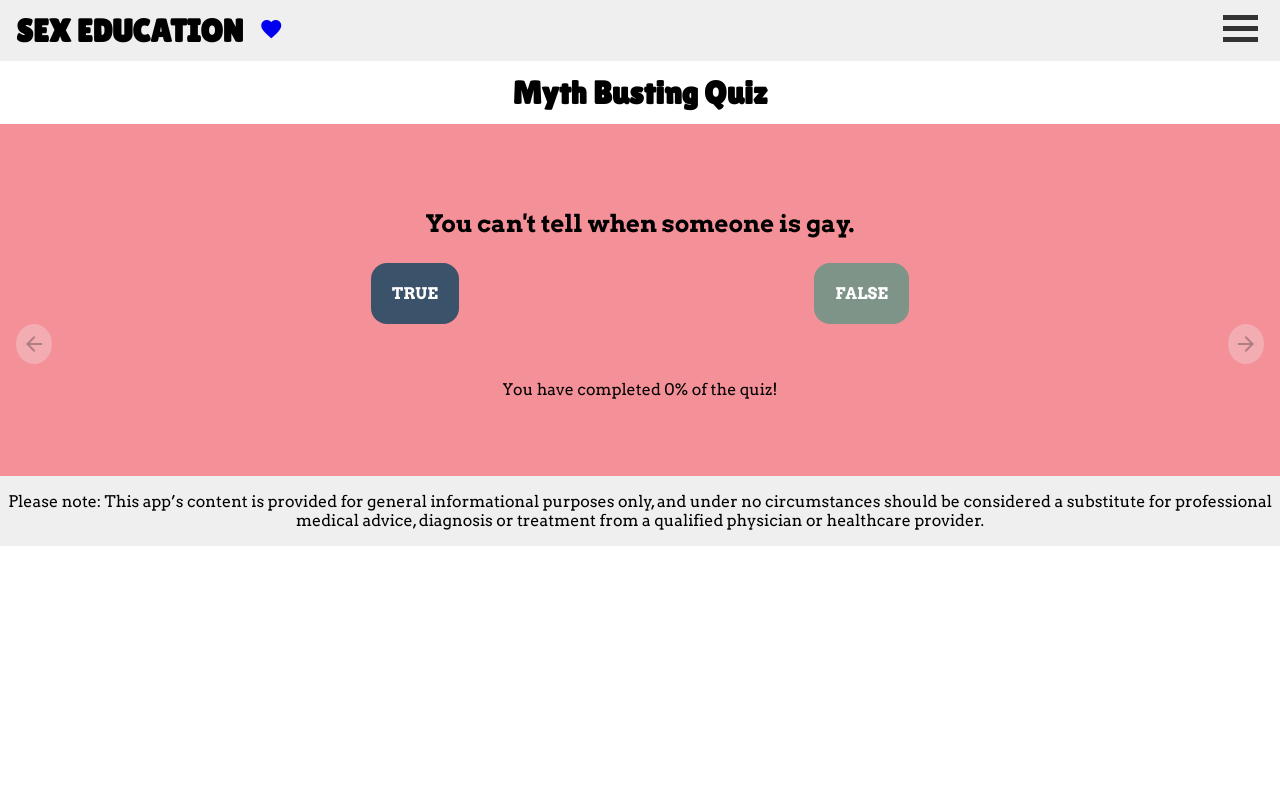
Test: Quiz › Should show the next question once the next arrow button is clicked
Click the radio button with class "true-label": {"x": 415, "y": 294} [371,263,459,324]
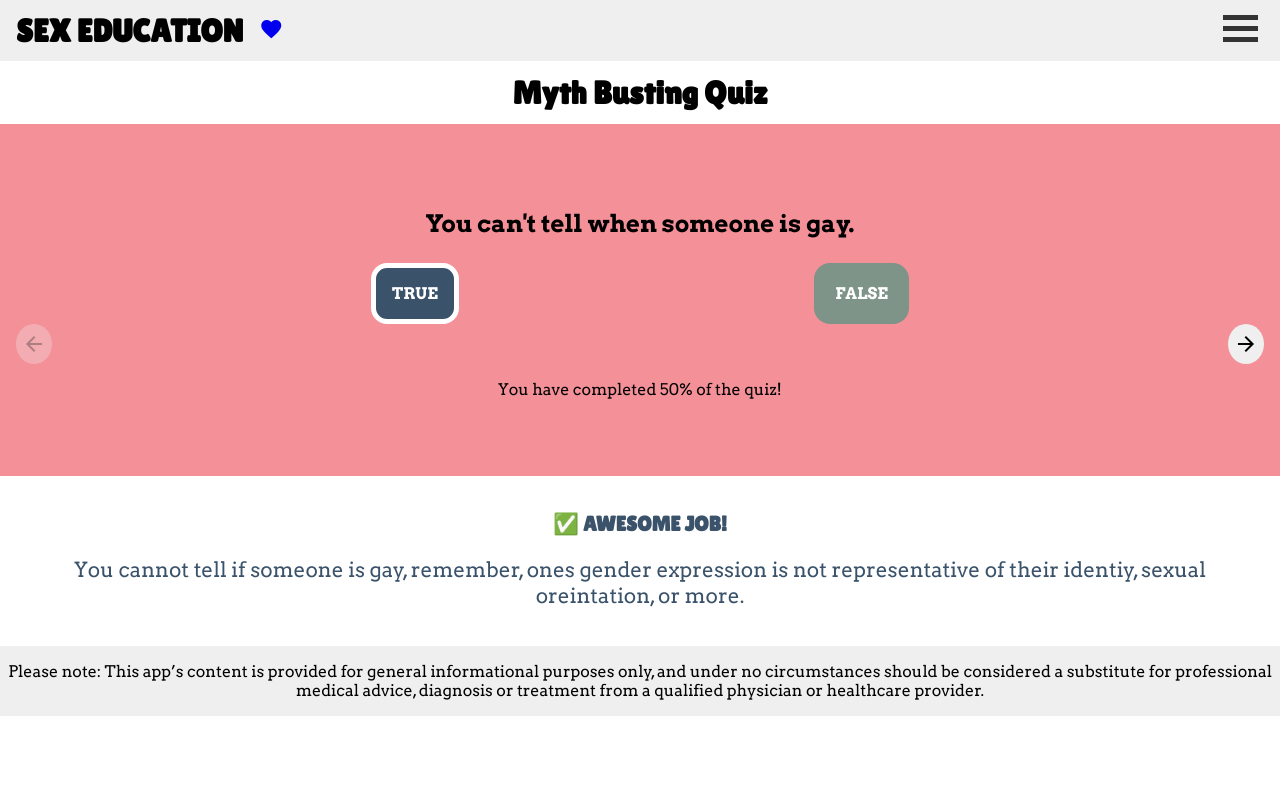
Click the button with id "next-button": {"x": 1246, "y": 344} [1228,324,1264,364]
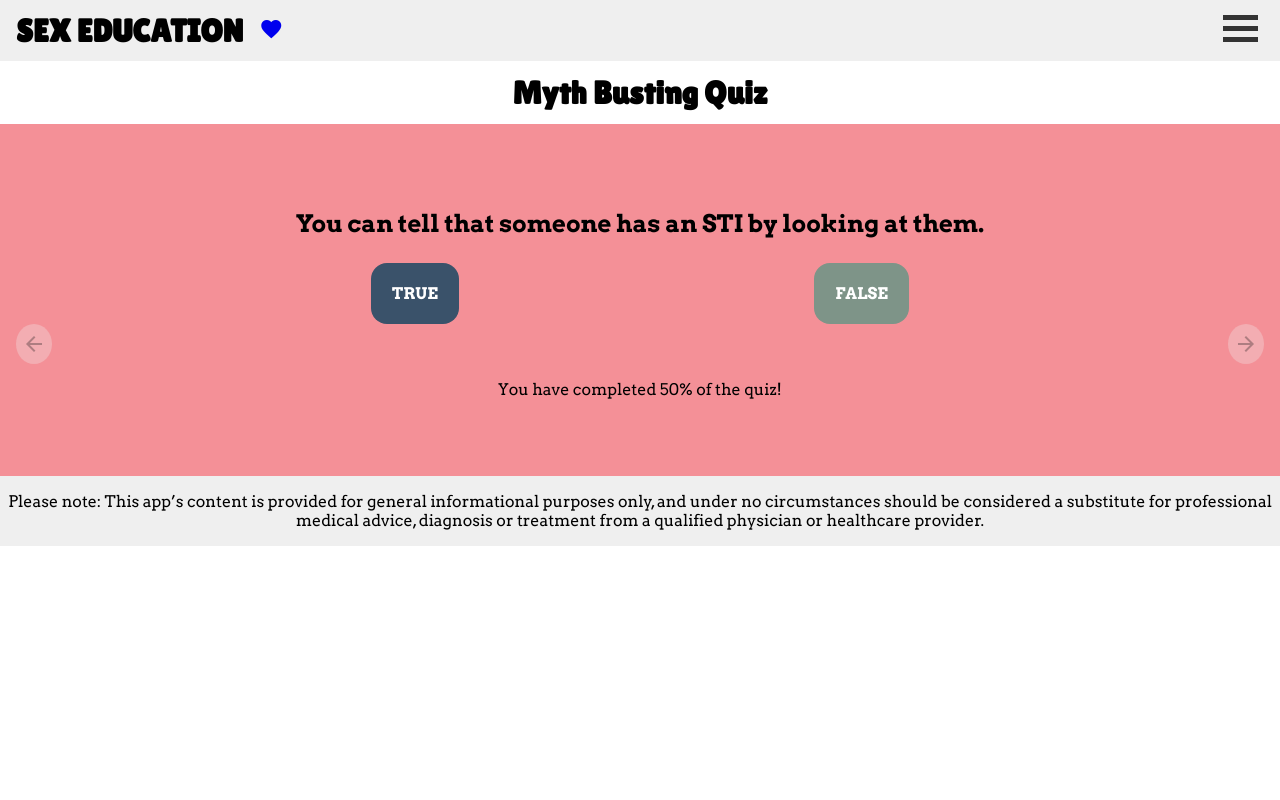
Expected: the heading "You can tell that someone has an STI by looking at them." is shown, [296,209,984,238]
